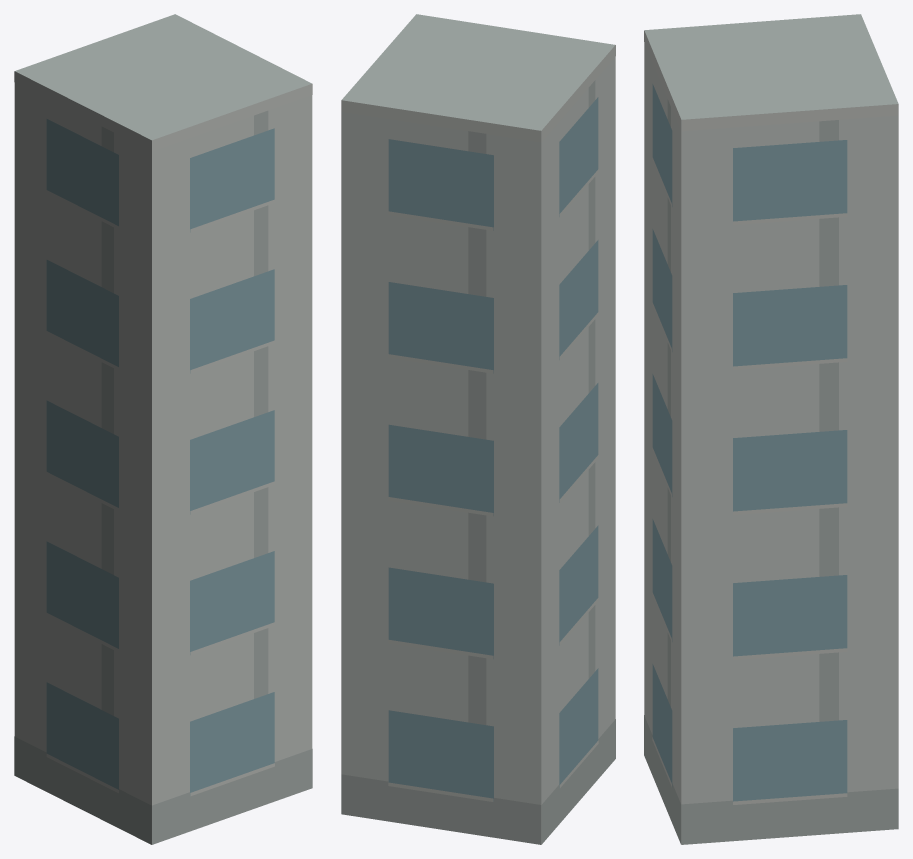
Rendered from survey-upis-33041472.glb.
The picture shows the model from 3 angles, left to right: view 1: azimuth 30°, elevation 25°; view 2: azimuth 150°, elevation 25°; view 3: azimuth 270°, elevation 25°; orthographic projection. The views are drawn at different scales.
Parts seen in each view (by area): view 1: survey-upis-33041472.tmp; view 2: survey-upis-33041472.tmp; view 3: survey-upis-33041472.tmp.
Boxes of the visible parts, left/top/right/bottom form: survey-upis-33041472.tmp: left=14, top=14, right=312, bottom=844; survey-upis-33041472.tmp: left=341, top=14, right=615, bottom=844; survey-upis-33041472.tmp: left=644, top=14, right=898, bottom=844.
Size of the model in its own units: 4.78 by 15.25 by 4.86.
